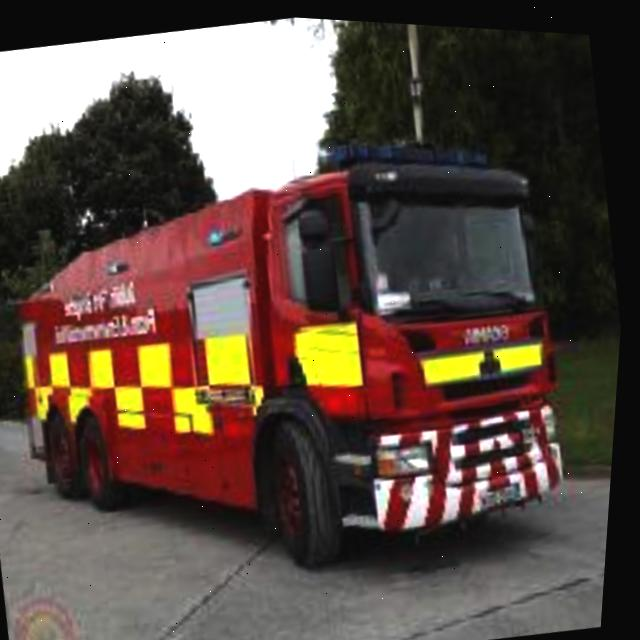emergency: (0, 86, 605, 607)
